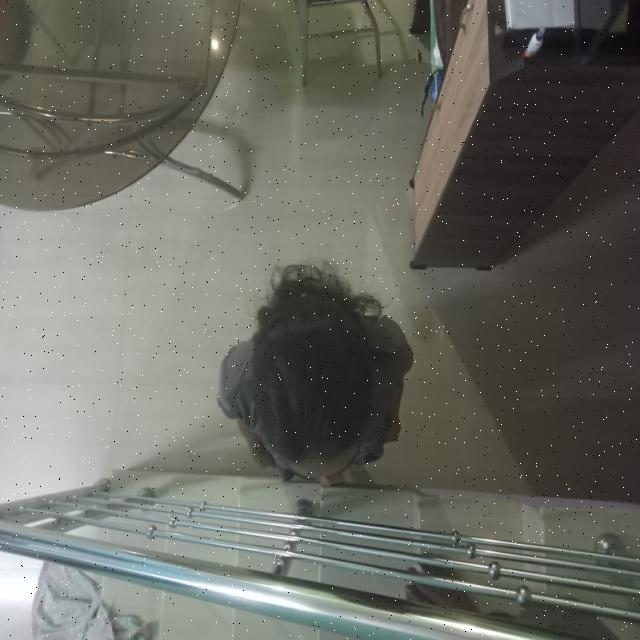humans: (212, 256, 424, 480)
